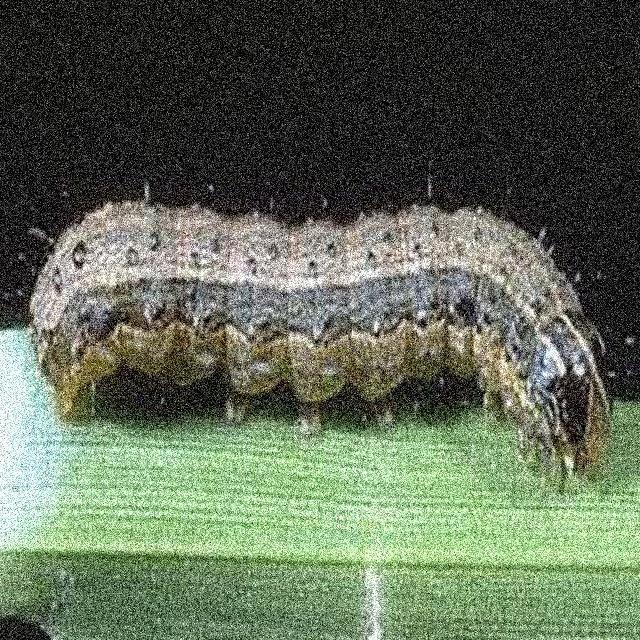gusano_cogollero: (24, 167, 640, 488)
